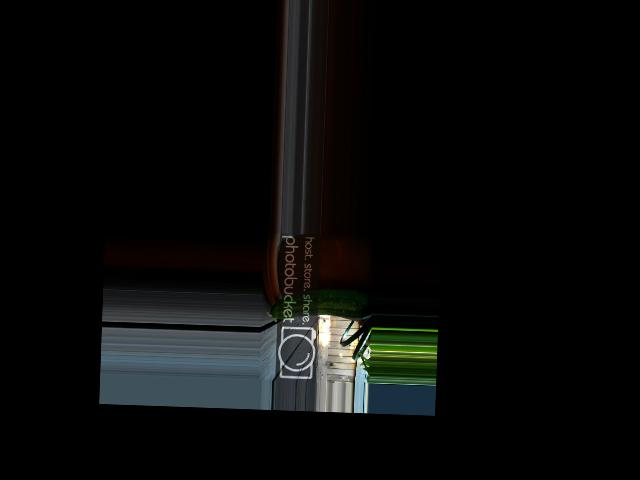cucumber: (265, 287, 372, 322)
